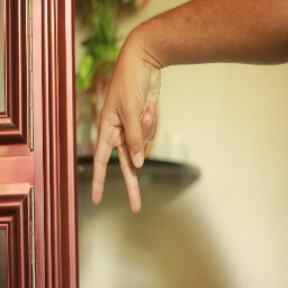Y: (89, 59, 163, 219)
